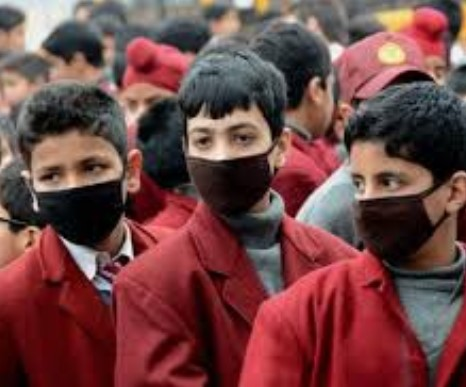face_no_mask: (253, 20, 333, 136)
face_with_mask: (342, 82, 464, 264), (18, 79, 142, 244), (181, 47, 291, 220)
